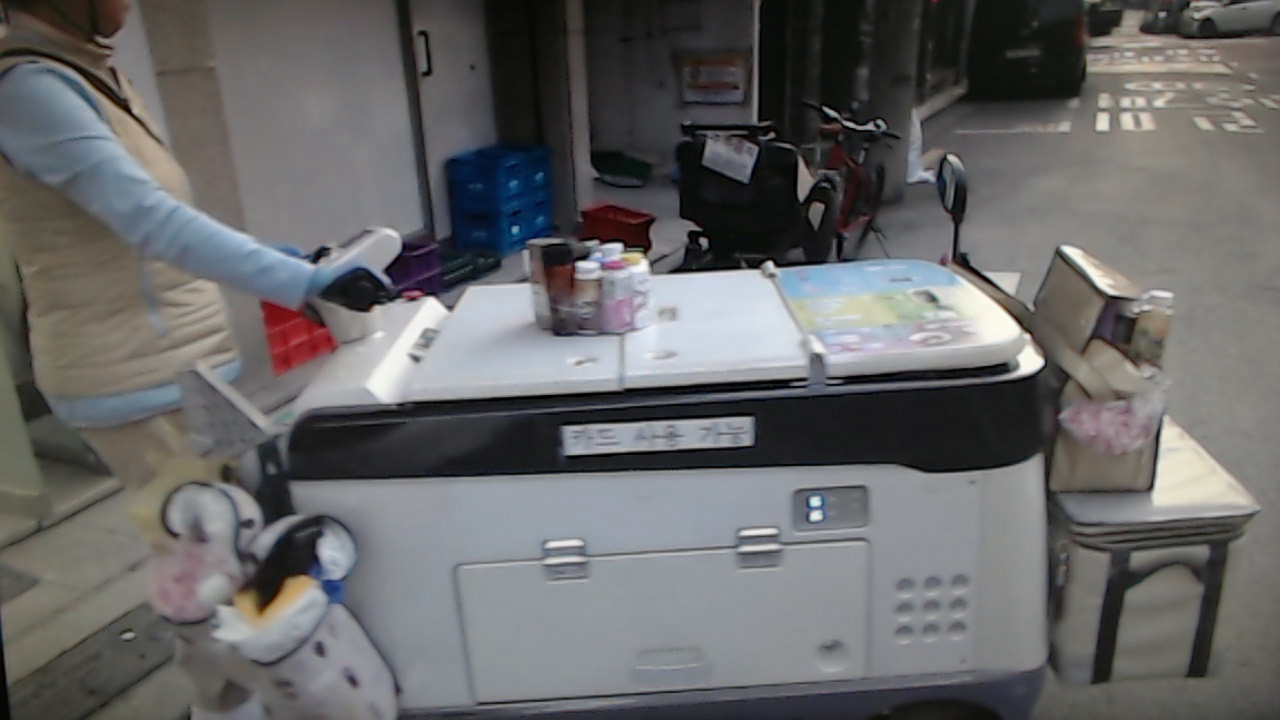Yakurut: (5, 0, 401, 515)
